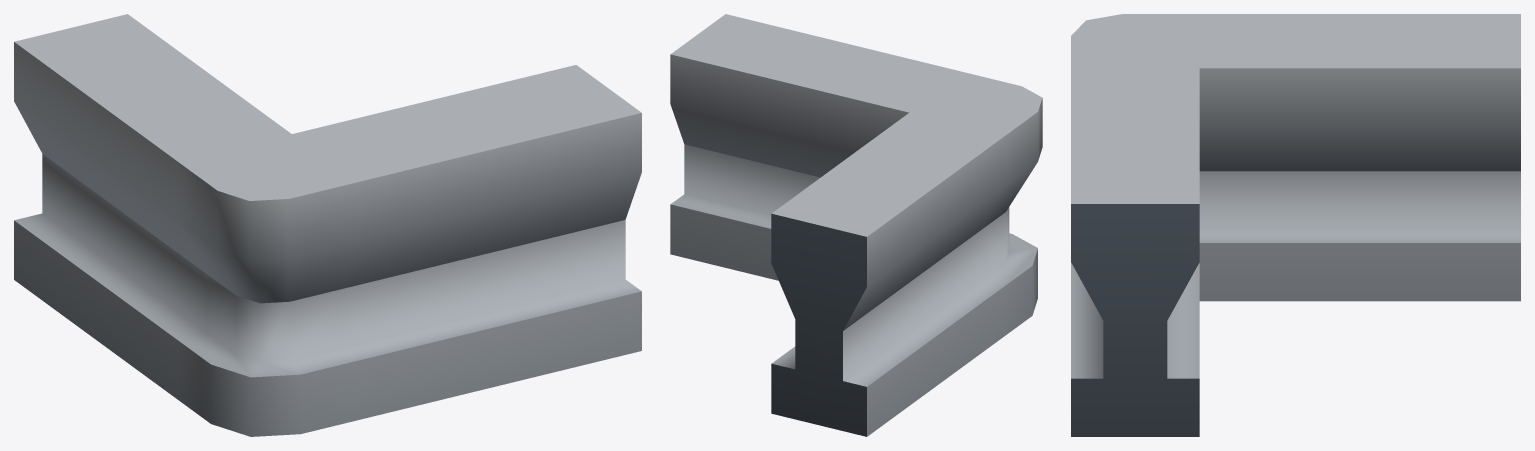
The model's file is balcony-rail-corner.glb.
3 renders of one model, left to right at view 1: azimuth 30°, elevation 25°; view 2: azimuth 150°, elevation 25°; view 3: azimuth 270°, elevation 25°, orthographic. The views are drawn at different scales.
Visible parts, largest first — view 1: balcony-rail-corner; view 2: balcony-rail-corner; view 3: balcony-rail-corner.
Boxes of the visible parts, bbox=[...] form: balcony-rail-corner: bbox=[14, 14, 641, 436]; balcony-rail-corner: bbox=[670, 14, 1042, 436]; balcony-rail-corner: bbox=[1071, 14, 1520, 436].
Size of the model in its own units: 0.7 by 0.4 by 0.7.
